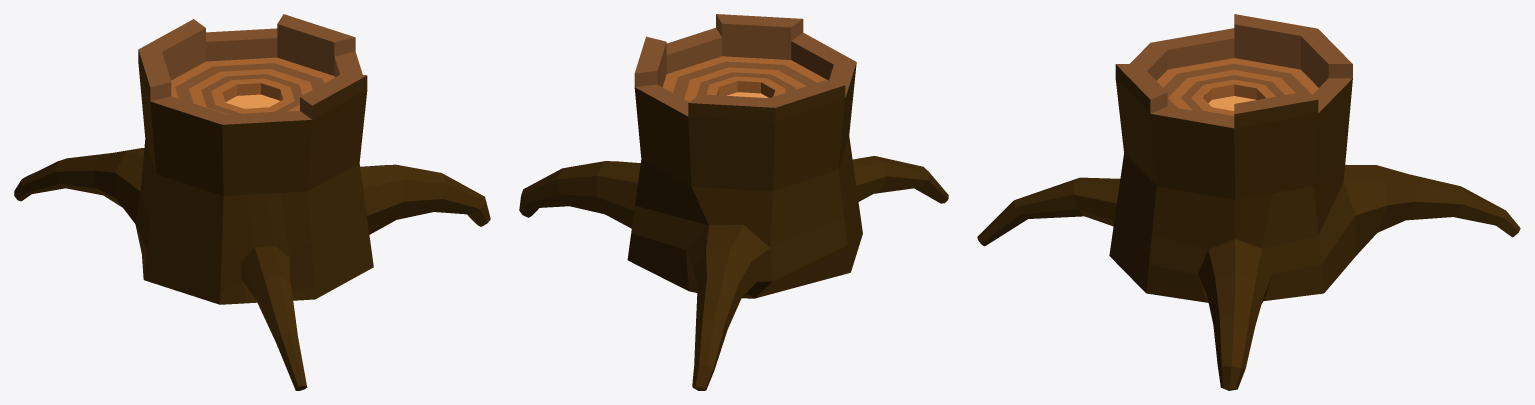
File: tree_stump1.fbx
3 renders of one model, left to right at view 1: azimuth 30°, elevation 25°; view 2: azimuth 150°, elevation 25°; view 3: azimuth 270°, elevation 25°, orthographic. The views are drawn at different scales.
Parts seen in each view (by area): view 1: Circle; view 2: Circle; view 3: Circle.
Part boxes in pixels (<box>): Circle: <box>14,14,490,390</box>; Circle: <box>519,14,948,390</box>; Circle: <box>977,14,1520,390</box>.
Bounding box in the file's own units: 421 × 257 × 577.
